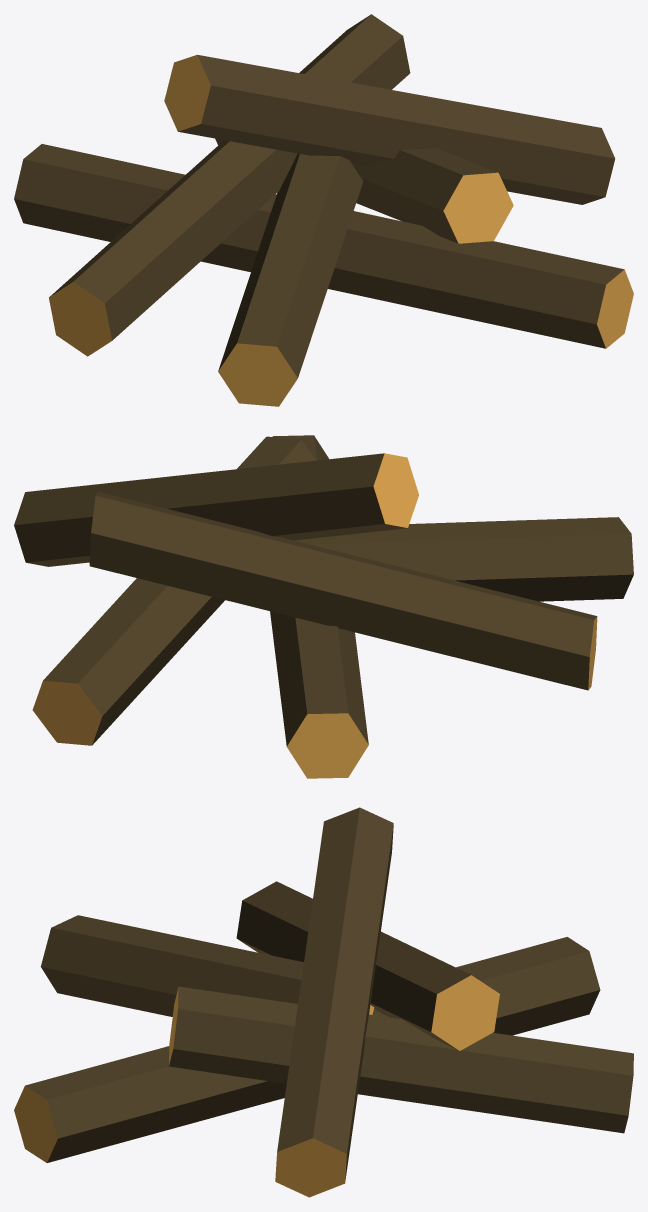
File: Bonfire.fbx
3 views of the same model, one above another, from view 1: azimuth 30°, elevation 25°; view 2: azimuth 150°, elevation 25°; view 3: azimuth 270°, elevation 25° (orthographic).
Visible parts, largest first — view 1: Bonfire; view 2: Bonfire; view 3: Bonfire.
Boxes of the visible parts, x1,y1,x2,y2 form: Bonfire: (14, 14, 633, 406); Bonfire: (14, 435, 633, 778); Bonfire: (14, 807, 633, 1197).
Size of the model in its own units: 57.49 by 23.31 by 56.08.
